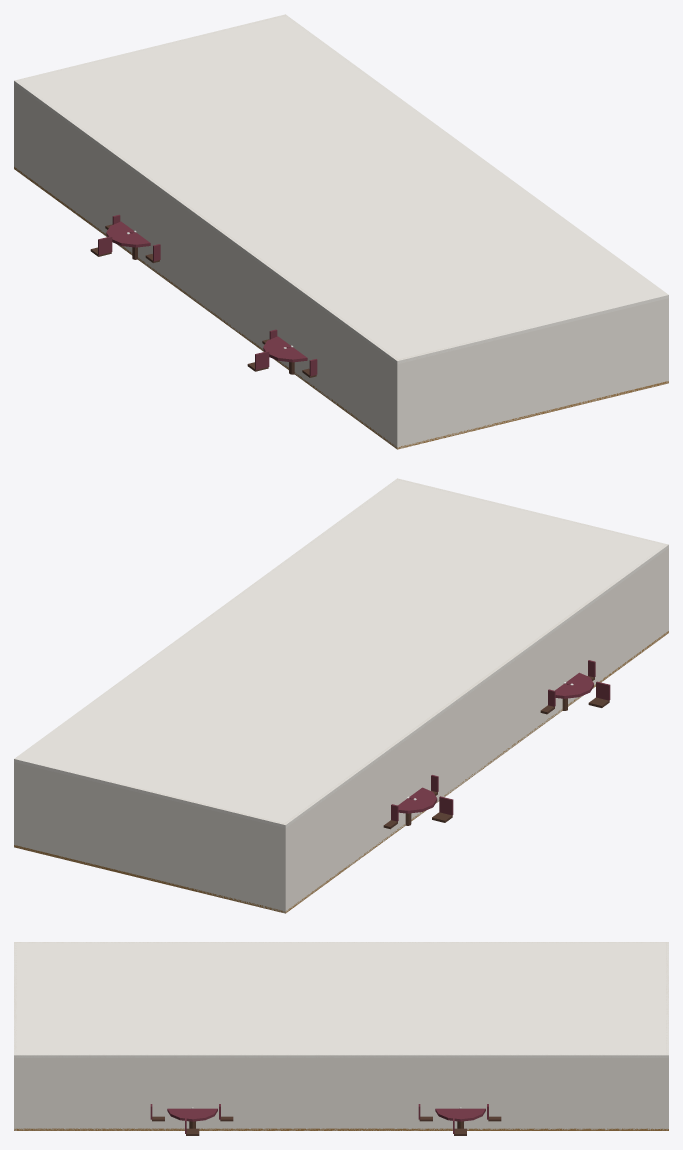
The model's file is 169-Crucero_casino.glb.
The picture shows the model from 3 angles, top to bottom: view 1: azimuth 30°, elevation 25°; view 2: azimuth 150°, elevation 25°; view 3: azimuth 270°, elevation 25°; orthographic projection. The views are drawn at different scales.
Parts seen in each view (by area): view 1: SM_Cri_Casino_Techo, SM_Cri_Casino_Pared_B, SM_Cri_Casino_Pared_Popa, SM_Cri_Casino_Piso, SM_Cri_MesaCartas_1, SM_Cri_MesaCartas_3; view 2: SM_Cri_Casino_Techo, SM_Cri_Casino_Pared_B, SM_Cri_Casino_Pared_Frente, SM_Cri_Casino_Piso, SM_Cri_Casino_Pared_E, SM_Cri_MesaCartas_3, SM_Cri_MesaCartas_1; view 3: SM_Cri_Casino_Techo, SM_Cri_Casino_Pared_E, SM_Cri_Casino_Piso, SM_Cri_Casino_Pared_B, SM_Cri_MesaCartas_2, SM_Cri_MesaCartas_4, SM_Cri_Casino_Pared_Popa, SM_Cri_Casino_Pared_Frente.
Boxes of the visible parts, left/top/right/bottom form: SM_Cri_Casino_Techo: left=14, top=14, right=668, bottom=363; SM_Cri_Casino_Pared_B: left=14, top=80, right=400, bottom=448; SM_Cri_Casino_Pared_Popa: left=396, top=295, right=668, bottom=449; SM_Cri_Casino_Piso: left=14, top=167, right=668, bottom=449; SM_Cri_MesaCartas_1: left=263, top=336, right=307, bottom=362; SM_Cri_MesaCartas_3: left=106, top=221, right=150, bottom=247; SM_Cri_Casino_Techo: left=14, top=478, right=668, bottom=827; SM_Cri_Casino_Pared_B: left=282, top=544, right=668, bottom=913; SM_Cri_Casino_Pared_Frente: left=14, top=759, right=286, bottom=912; SM_Cri_Casino_Piso: left=14, top=631, right=668, bottom=913; SM_Cri_Casino_Pared_E: left=14, top=478, right=399, bottom=847; SM_Cri_MesaCartas_3: left=398, top=787, right=437, bottom=813; SM_Cri_MesaCartas_1: left=555, top=672, right=593, bottom=698; SM_Cri_Casino_Techo: left=14, top=942, right=668, bottom=1057; SM_Cri_Casino_Pared_E: left=14, top=1054, right=668, bottom=1130; SM_Cri_Casino_Piso: left=14, top=1128, right=668, bottom=1130; SM_Cri_Casino_Pared_B: left=14, top=942, right=668, bottom=943; SM_Cri_MesaCartas_2: left=167, top=1108, right=217, bottom=1121; SM_Cri_MesaCartas_4: left=435, top=1108, right=485, bottom=1121; SM_Cri_Casino_Pared_Popa: left=14, top=943, right=16, bottom=1130; SM_Cri_Casino_Pared_Frente: left=666, top=942, right=668, bottom=1130.
Size of the model in its own units: 11.74 by 2.8 by 22.
